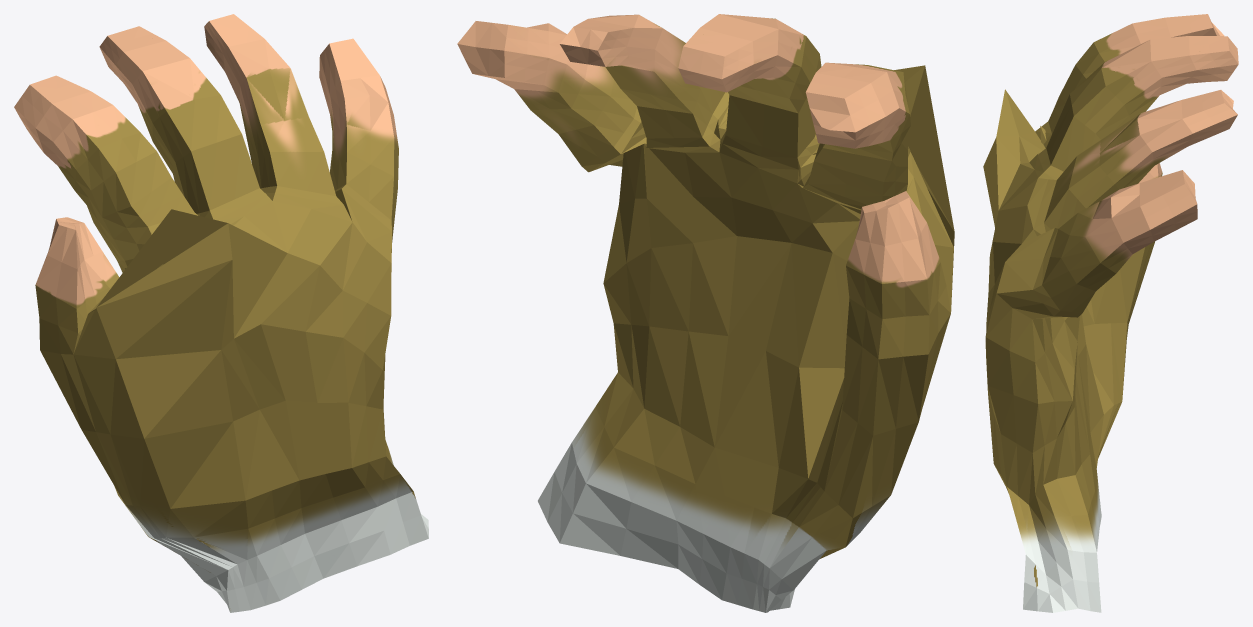
Rendered from grip0030.obj.
3 views of the same model, side by side, from view 1: azimuth 30°, elevation 25°; view 2: azimuth 150°, elevation 25°; view 3: azimuth 270°, elevation 25° (orthographic). The views are drawn at different scales.
Visible parts, largest first — view 1: Hand; view 2: Hand; view 3: Hand.
Boxes of the visible parts, x1=… form: Hand: x1=14, y1=14, x2=428, y2=612; Hand: x1=457, y1=14, x2=954, y2=612; Hand: x1=983, y1=14, x2=1238, y2=612.
Bounding box in the file's own units: 2.93 × 4.11 × 1.85.
